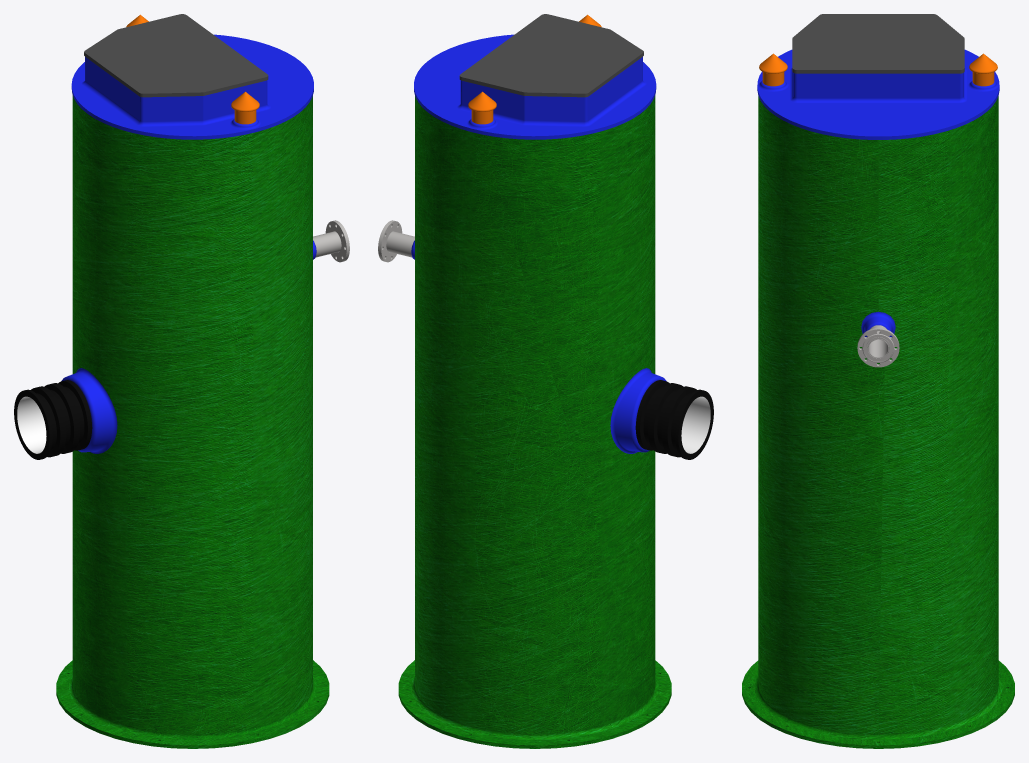
Rendered from ECOWARD-KHC-D1200.glb.
3 renders of one model, left to right at view 1: azimuth 30°, elevation 25°; view 2: azimuth 150°, elevation 25°; view 3: azimuth 270°, elevation 25°, orthographic.
Parts seen in each view (by area): view 1: Твердое тело1 (×4), Solid1; view 2: Твердое тело1 (×4), Solid1; view 3: Твердое тело1 (×3), Solid1.
Boxes of the visible parts, x1=… form: Твердое тело1 (×4): x1=14, y1=14, x2=329, y2=748; Solid1: x1=313, y1=231, x2=341, y2=257; Твердое тело1 (×4): x1=398, y1=14, x2=713, y2=748; Solid1: x1=386, y1=231, x2=414, y2=257; Твердое тело1 (×3): x1=742, y1=14, x2=1014, y2=748; Solid1: x1=857, y1=328, x2=899, y2=367.
Size of the model in its own units: 1.82 by 3.6 by 1.4.
18 materials, 2 textured.
